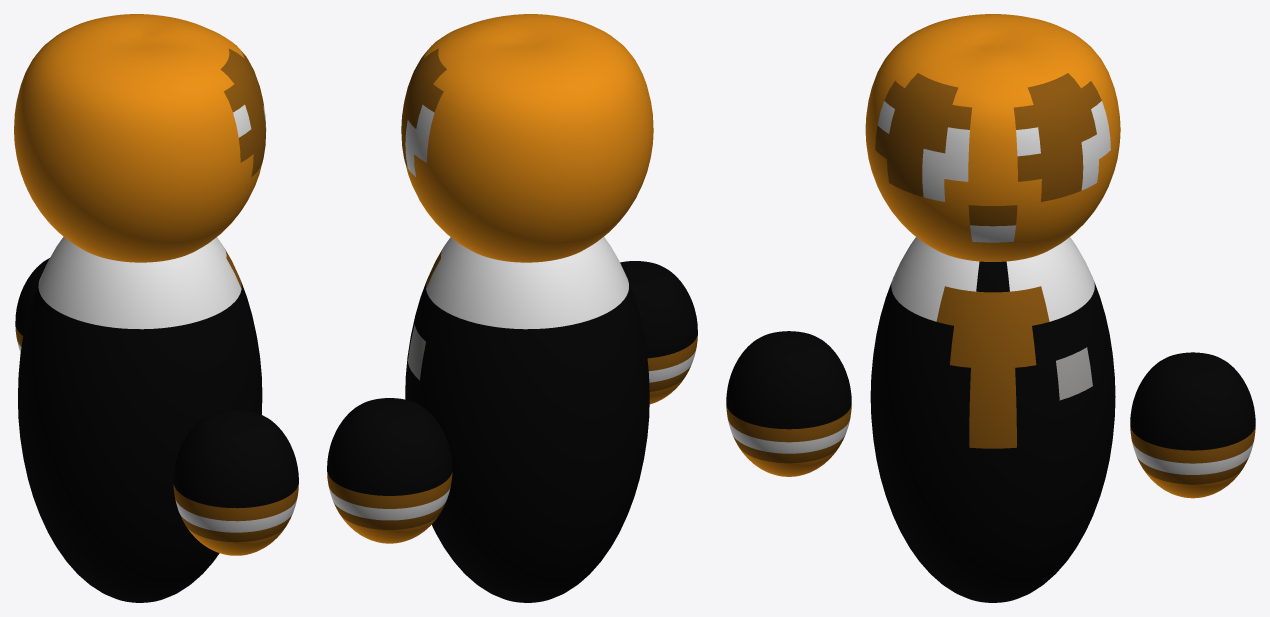
Rendered from executingorange.fbx.
3 views of the same model, side by side, from view 1: azimuth 30°, elevation 25°; view 2: azimuth 150°, elevation 25°; view 3: azimuth 270°, elevation 25° (orthographic).
Parts seen in each view (by area): view 1: Body, Head, Arm 1, Arm 2; view 2: Body, Head, Arm 2, Arm 1; view 3: Body, Head, Arm 2, Arm 1.
Part boxes in pixels (bbox=[...]): Body: bbox=[18, 236, 262, 602]; Head: bbox=[14, 14, 266, 262]; Arm 1: bbox=[173, 410, 298, 555]; Arm 2: bbox=[15, 258, 49, 352]; Body: bbox=[405, 237, 649, 602]; Head: bbox=[401, 14, 653, 262]; Arm 2: bbox=[327, 398, 452, 543]; Arm 1: bbox=[620, 261, 697, 404]; Body: bbox=[870, 237, 1115, 602]; Head: bbox=[865, 14, 1120, 261]; Arm 2: bbox=[1130, 352, 1255, 498]; Arm 1: bbox=[726, 331, 851, 476].
Size of the model in its own units: 203 by 497 by 427.
